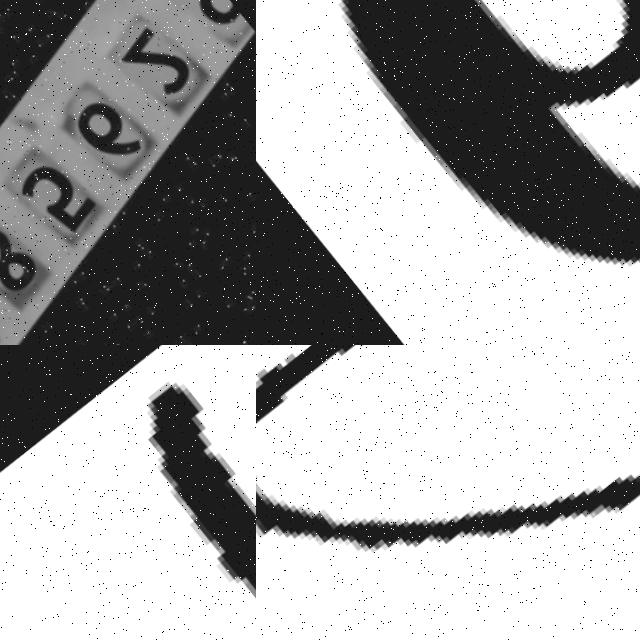2: (95, 3, 217, 130)
5: (0, 135, 114, 262)
6: (256, 0, 640, 345), (43, 71, 167, 200)
8: (0, 196, 59, 326)
9: (145, 0, 256, 63)
G: (256, 345, 640, 640)
I: (145, 377, 256, 599)
